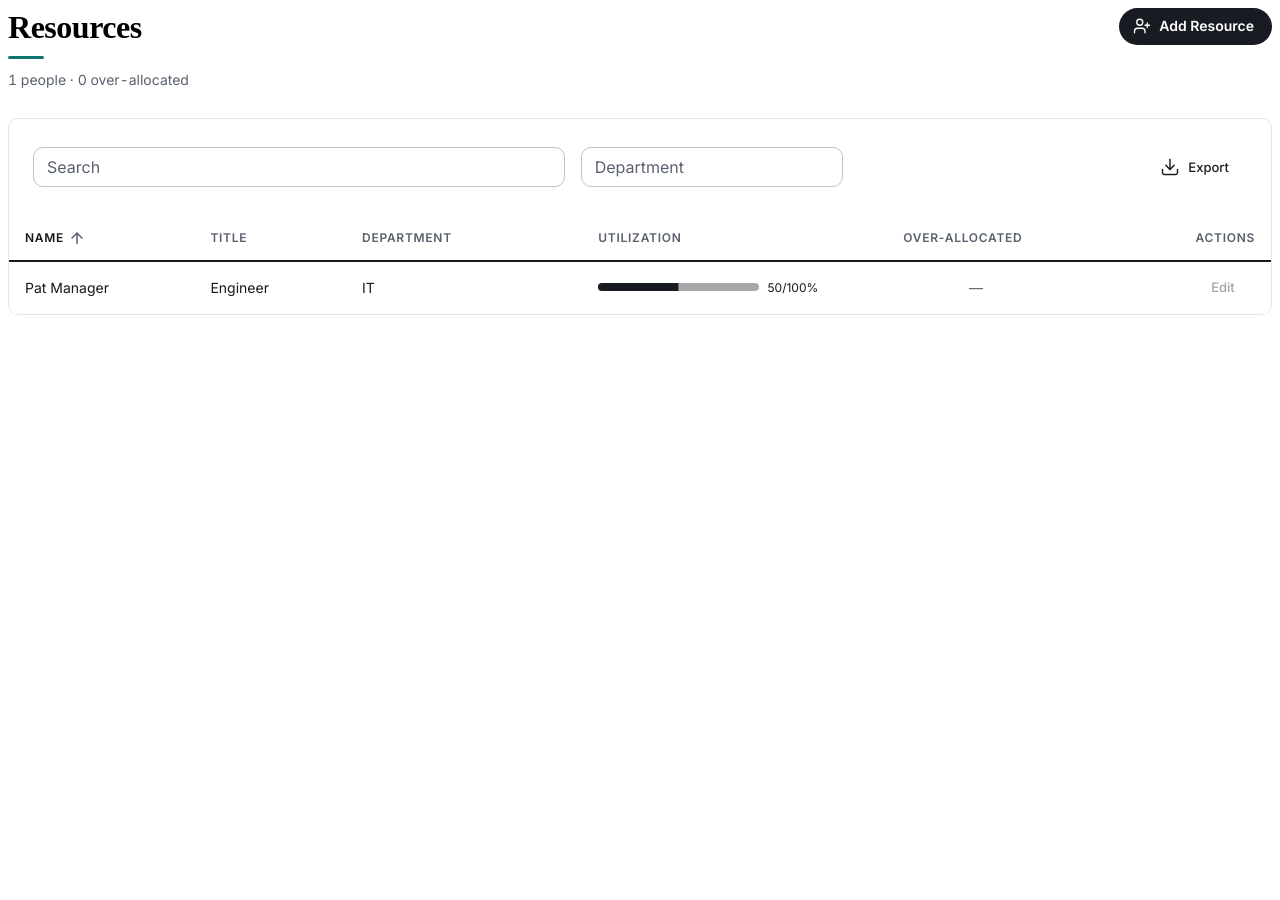
Test case: Resources page › form submission › a rejected submit shows the error in the dialog
Expected: the text "Pat Manager" is shown, [9,261,194,313]
Click the button "Edit".
click(1223, 288)  # box [1191,272,1255,303]
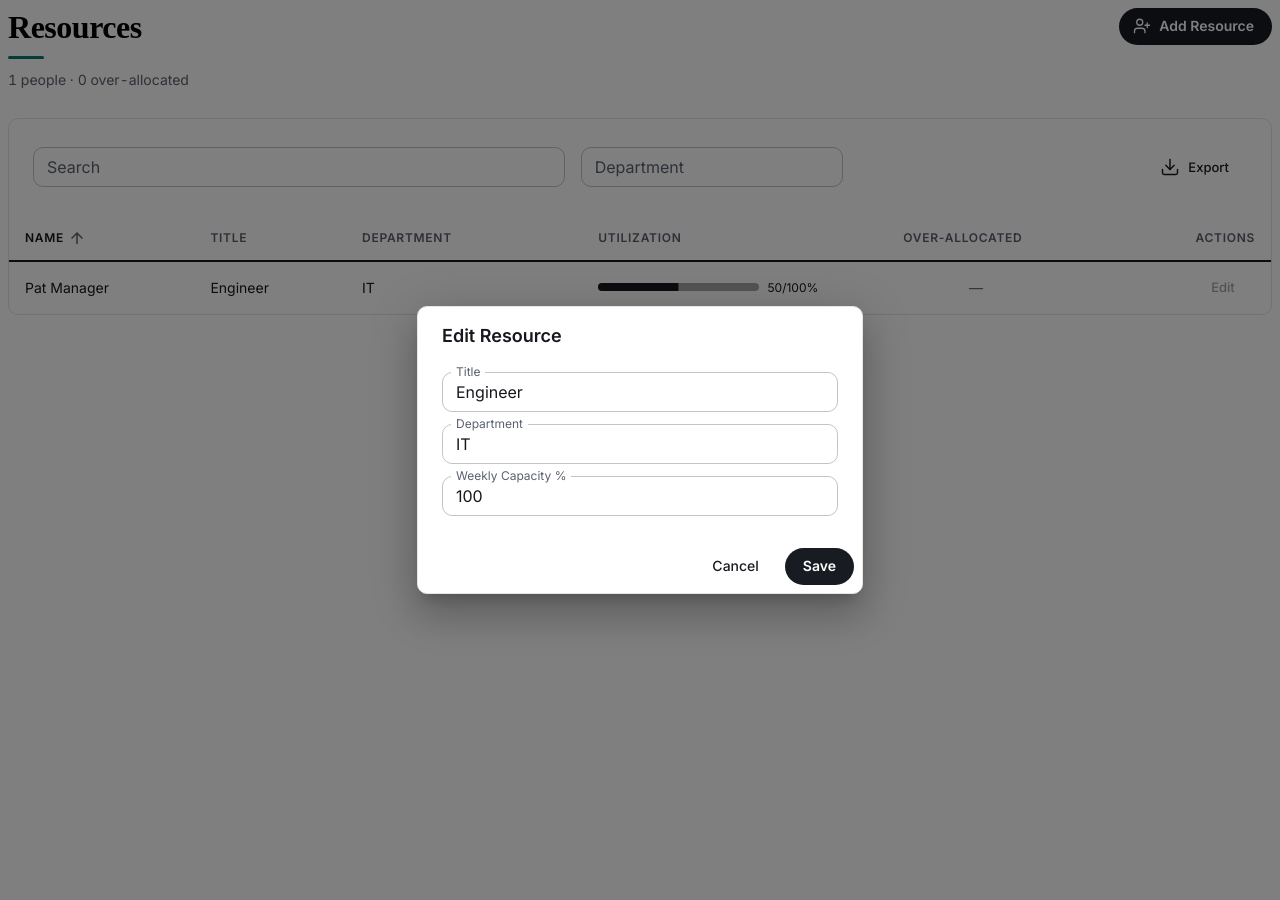
Result: the heading "Edit Resource" is shown at [442,325,562,346]
Click the button "Save".
click(819, 567)  # box [785,548,854,585]
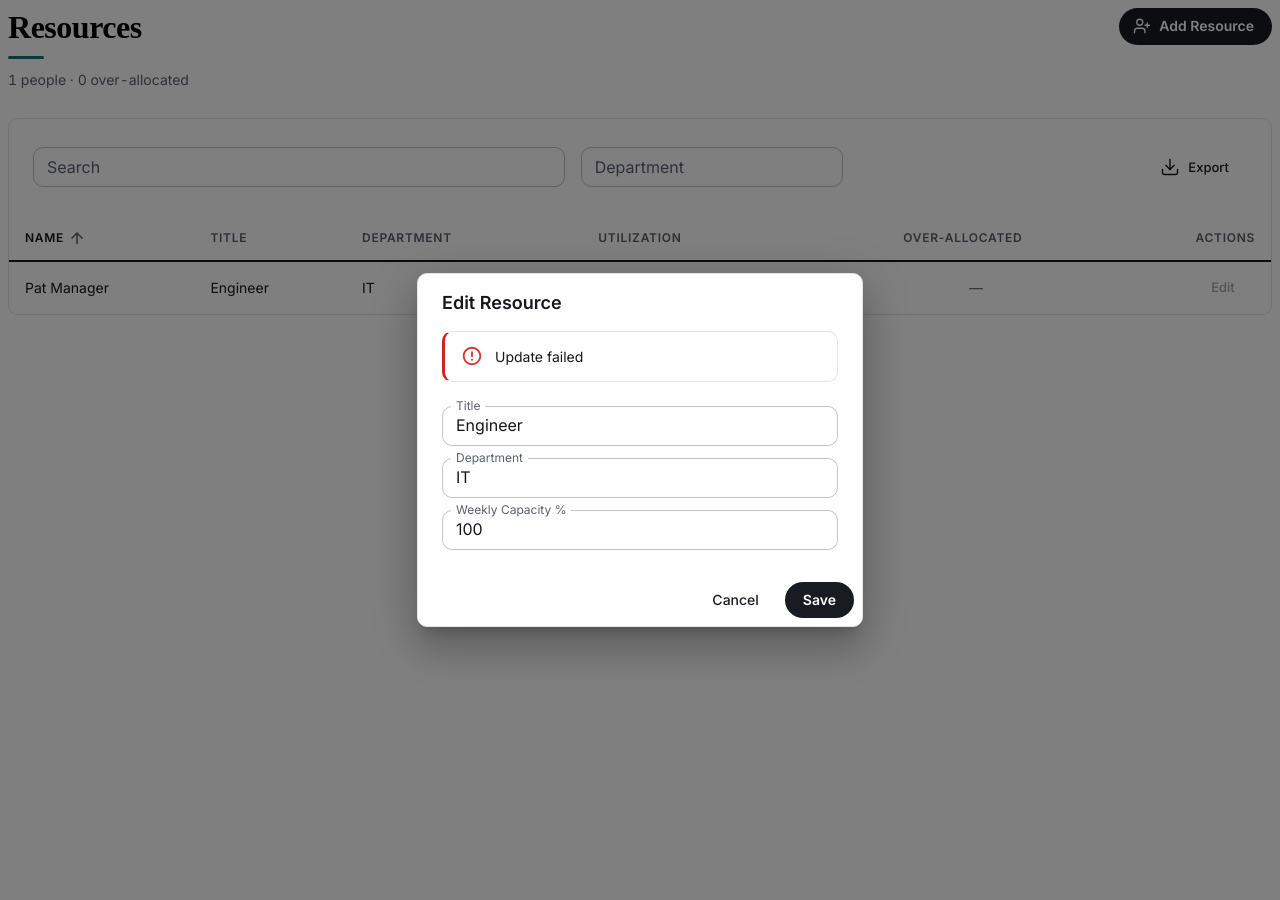
Result: the heading "Edit Resource" is shown at [442,292,562,313]
Result: the text "Update failed" is shown at [495,348,583,365]
